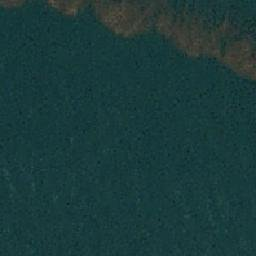debris: (93, 1, 148, 35), (176, 28, 228, 55), (221, 40, 256, 75), (152, 7, 190, 31), (49, 1, 86, 12), (1, 1, 26, 10)
